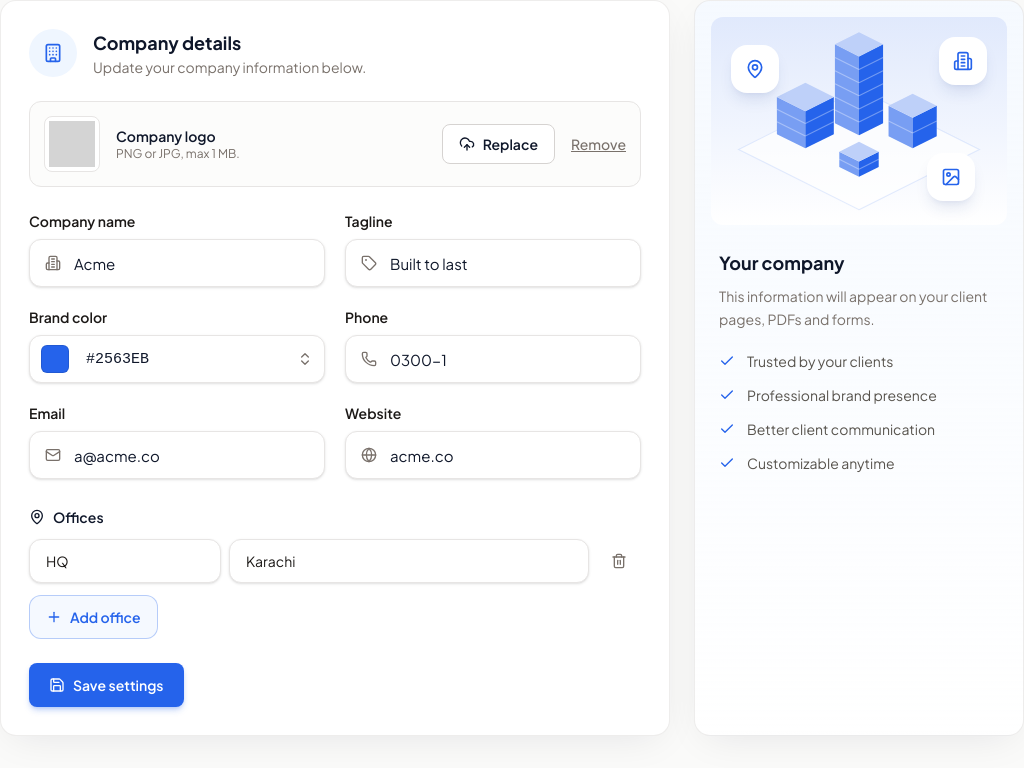
it: OrgSettingsForm › saves edits without sending the logo url
Replace the text in the field labelled "Company name" with "Acme Builders": (177,263) x1=29 y1=239 x2=325 y2=287
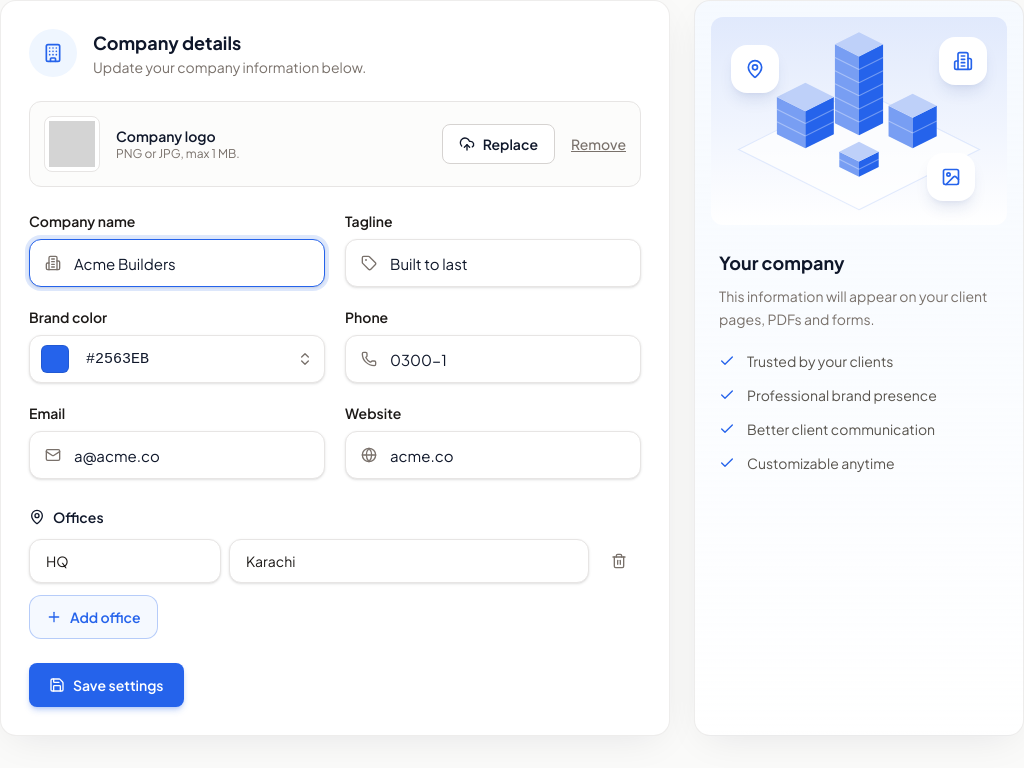
Click the button "Save settings": (106,685) x1=29 y1=663 x2=184 y2=707
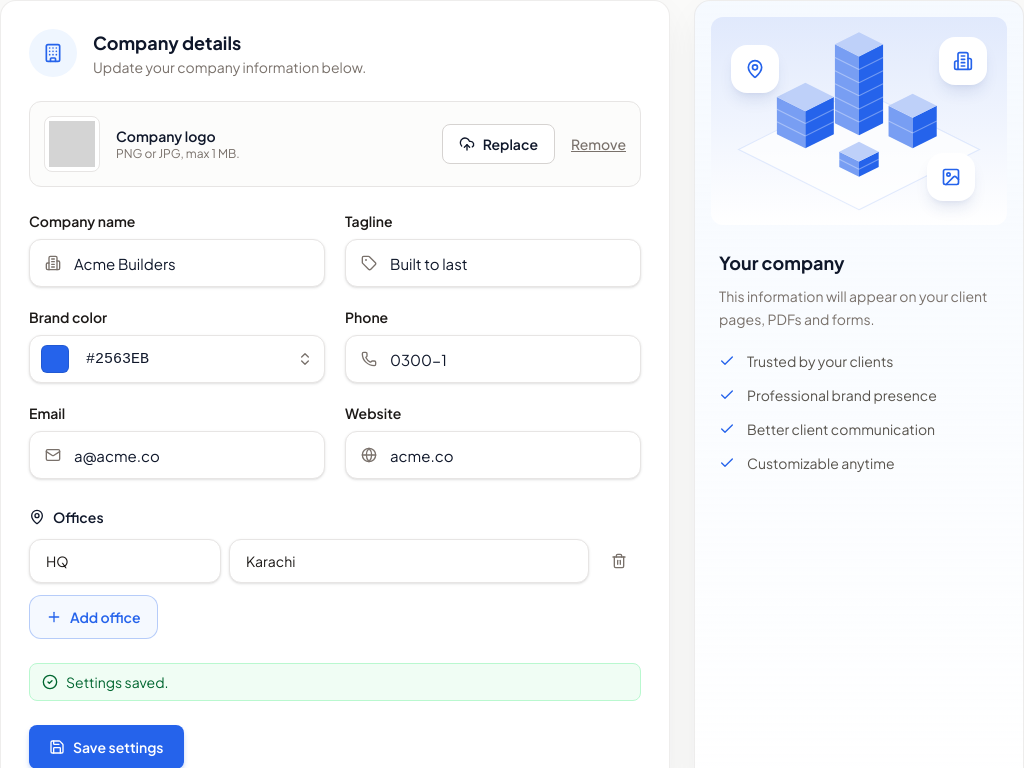
Check: the message shows "Settings saved", box x1=66 y1=673 x2=169 y2=691
